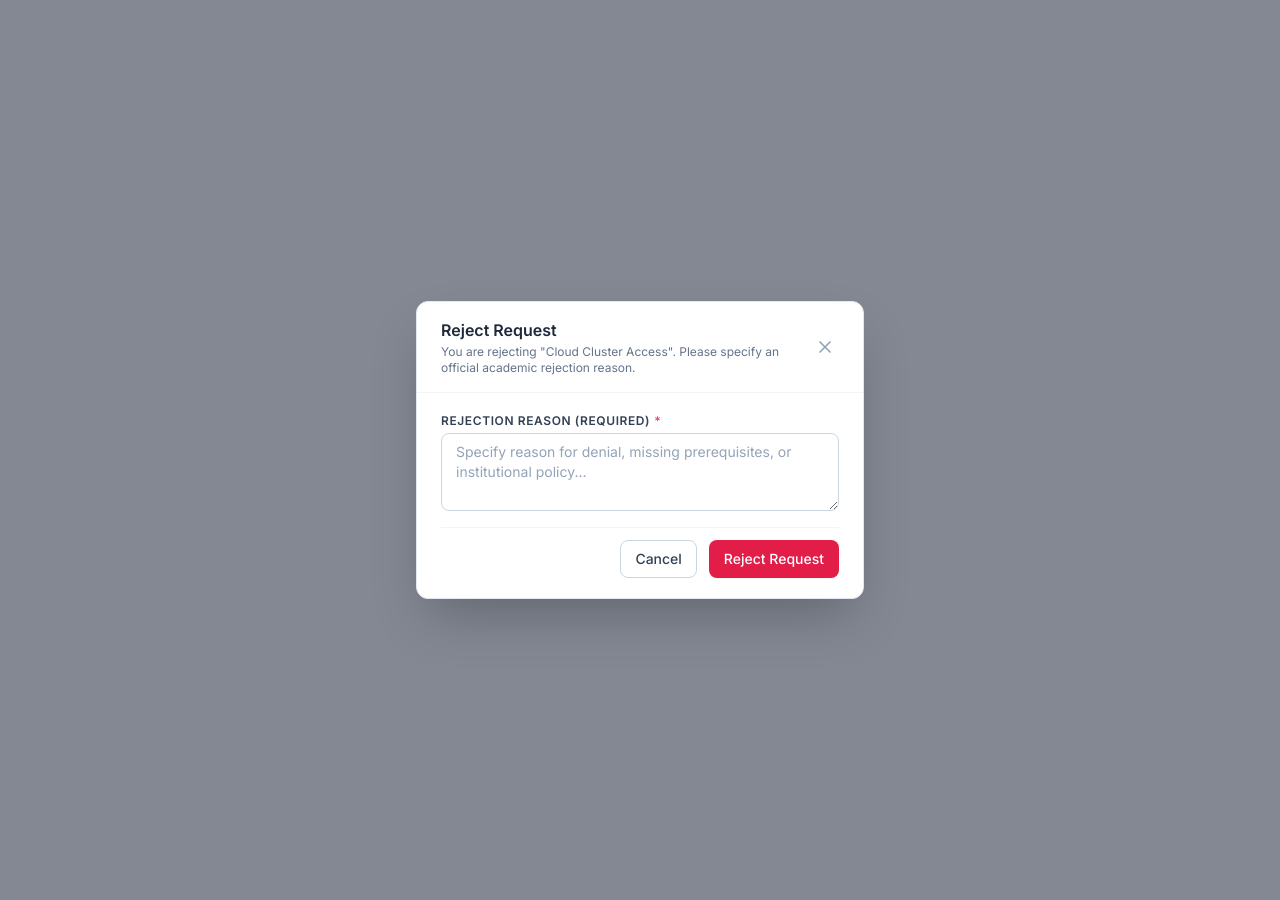
Test: Departmental Management System — Frontend Component & Flow Tests › 6. Form Validation & Submission in Modals › enforces mandatory rejection reason when rejecting request
Expected: the heading "Reject Request" is shown, left=441, top=320, right=557, bottom=340
Step 1. Type "bad" into the text box labelled "Rejection Reason (Required)*" → {"x": 640, "y": 472}, box left=441, top=433, right=839, bottom=511
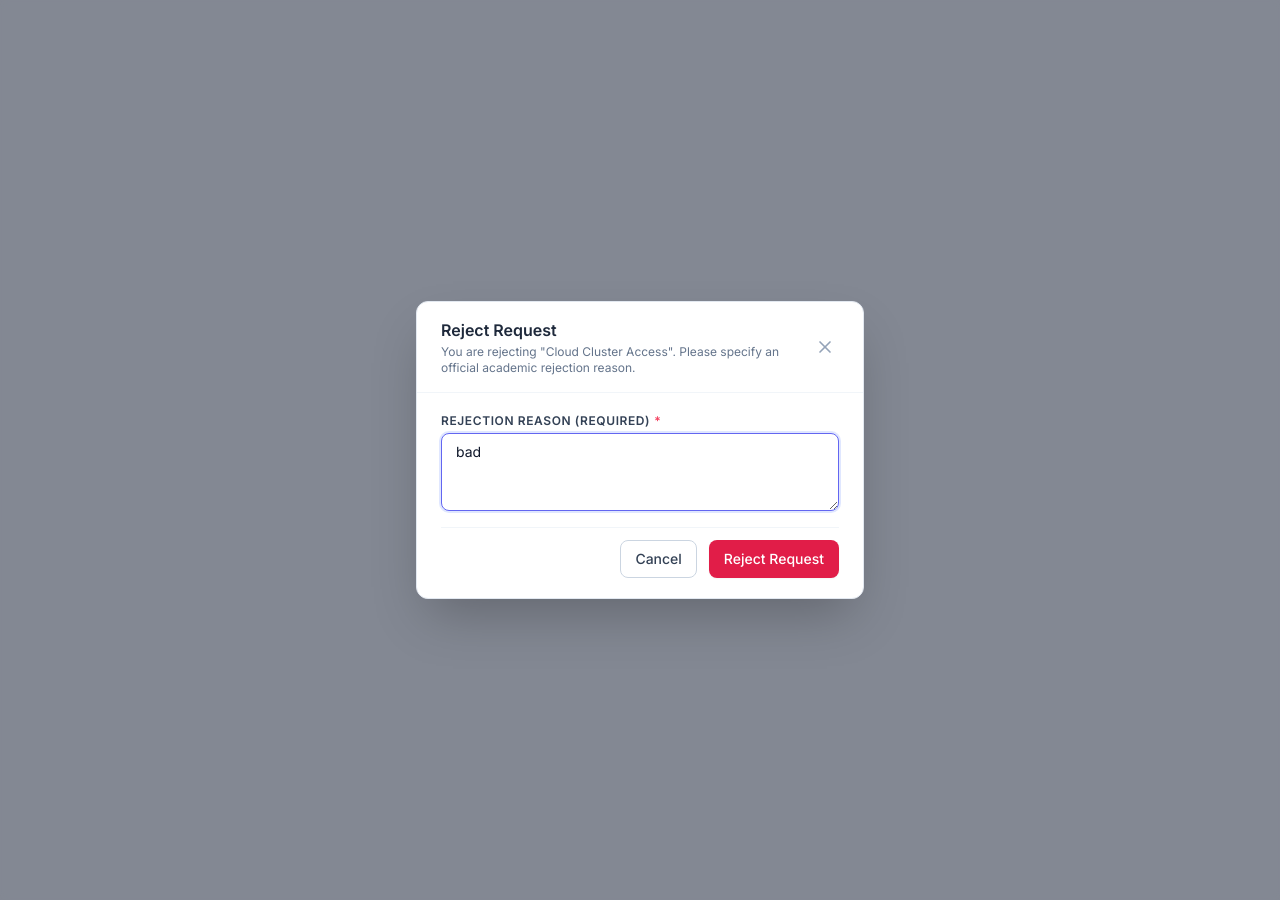
Step 2. Click the button "Reject Request" → {"x": 774, "y": 559}, box left=709, top=540, right=839, bottom=578
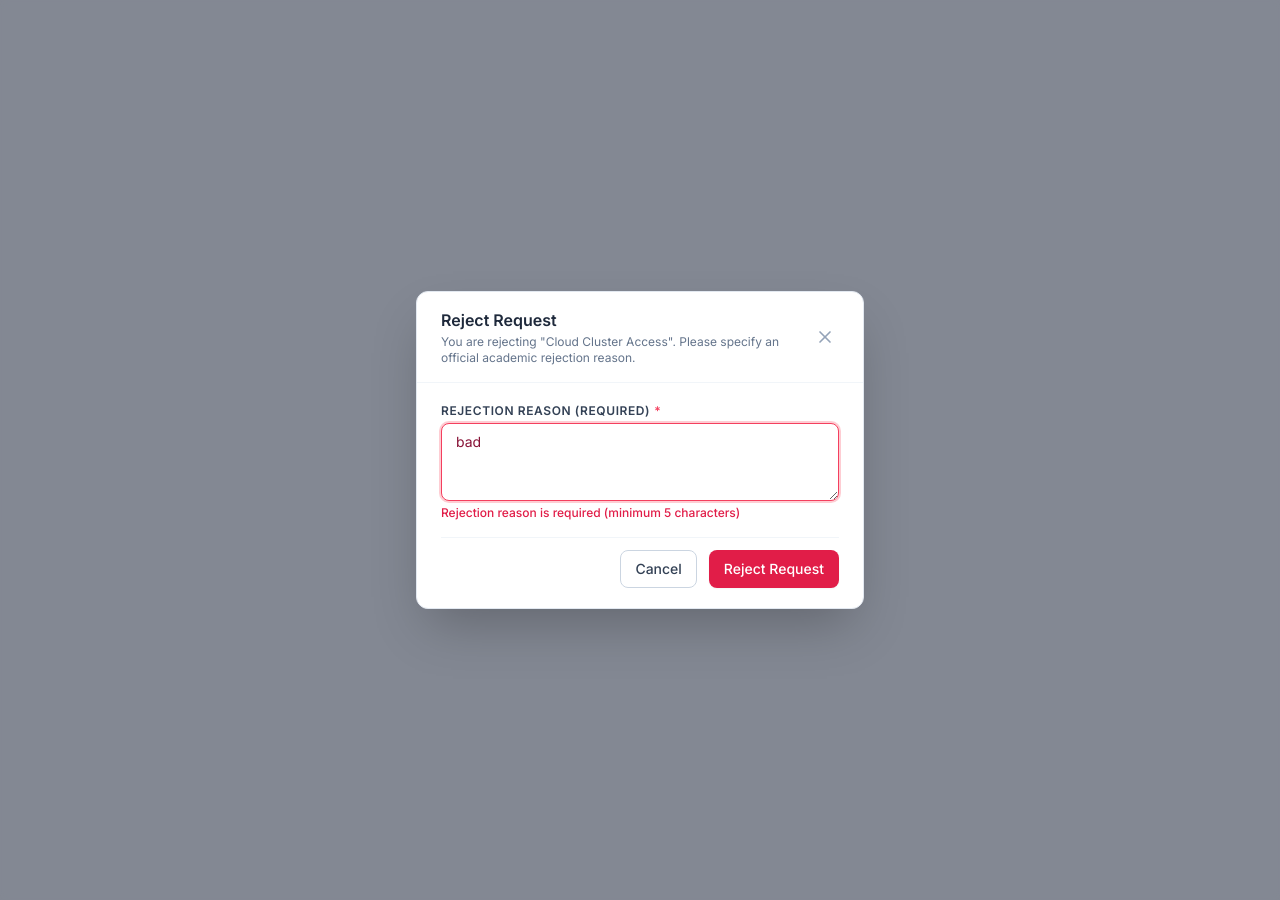
Expected: the text "Rejection reason is required (minimum 5 characters)" is shown, left=441, top=505, right=740, bottom=520
